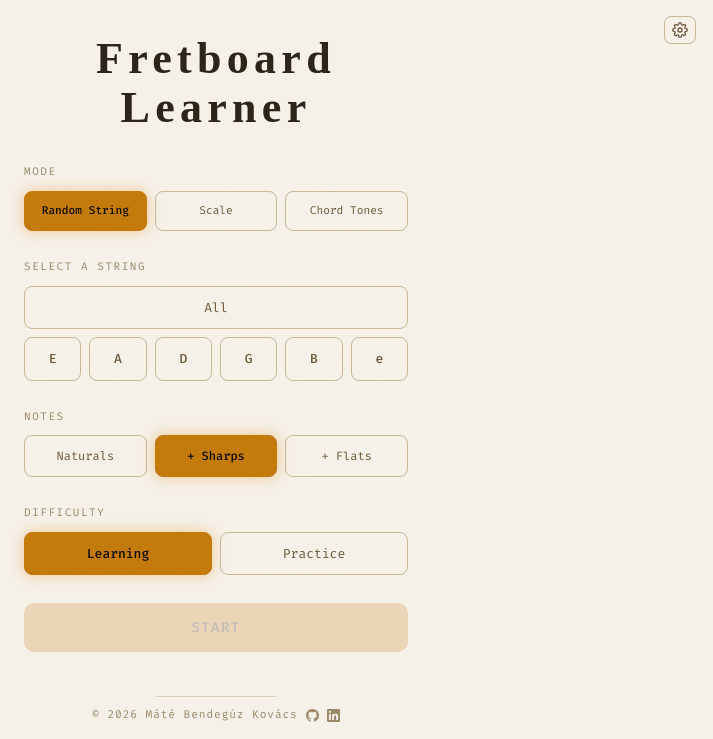
Scenario: ModeSelector — Start button state › is enabled after a string is selected
Click the button "A".
click(118, 359)  # box [89,337,147,381]
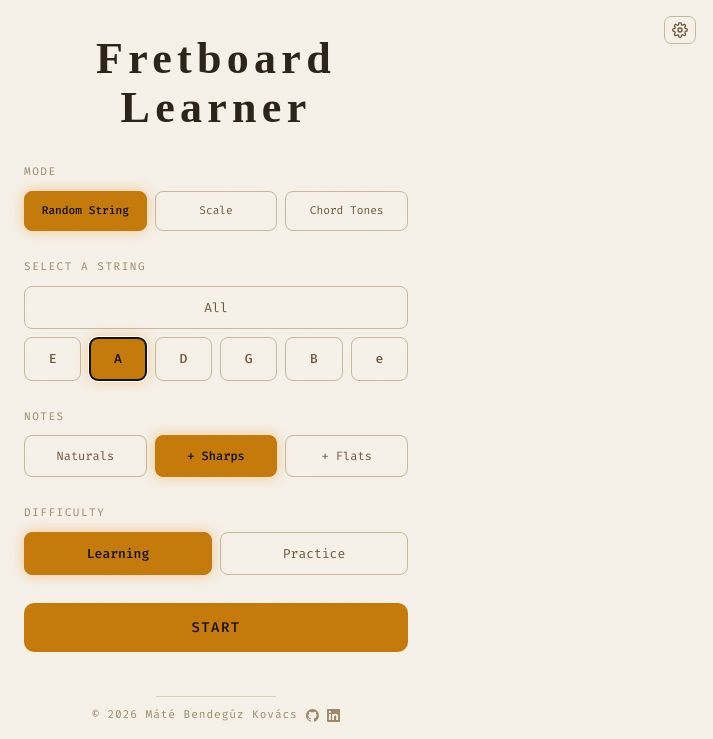
Check: the button "Start" is enabled, box [24,603,408,652]
